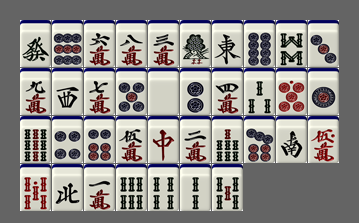0m: (308, 116, 339, 163)
0p: (276, 68, 307, 115)
0s: (20, 164, 51, 211)
1m: (84, 164, 115, 211)
1p: (308, 68, 339, 115)
1s: (180, 20, 211, 67)
1z: (212, 20, 243, 67)
2m: (180, 116, 211, 163)
2p: (180, 68, 211, 115)
2s: (180, 164, 211, 211)
2z: (276, 116, 307, 163)
3m: (148, 20, 179, 67)
3p: (308, 20, 339, 67)
3s: (244, 68, 275, 115)
3z: (52, 68, 83, 115)
4m: (212, 68, 243, 115)
4p: (52, 116, 83, 163)
4s: (148, 164, 179, 211)
4z: (52, 164, 83, 211)
5m: (116, 116, 147, 163)
5p: (116, 68, 147, 115)
5s: (212, 164, 243, 211)
5z: (148, 68, 179, 115)
6m: (84, 20, 115, 67)
6p: (84, 116, 115, 163)
6s: (116, 164, 147, 211)
6z: (20, 20, 51, 67)
7m: (84, 68, 115, 115)
7p: (244, 116, 275, 163)
7s: (212, 116, 243, 163)
7z: (148, 116, 179, 163)
8m: (116, 20, 147, 67)
8p: (244, 20, 275, 67)
8s: (276, 20, 307, 67)
9m: (20, 68, 51, 115)
9p: (52, 20, 83, 67)
9s: (20, 116, 51, 163)
